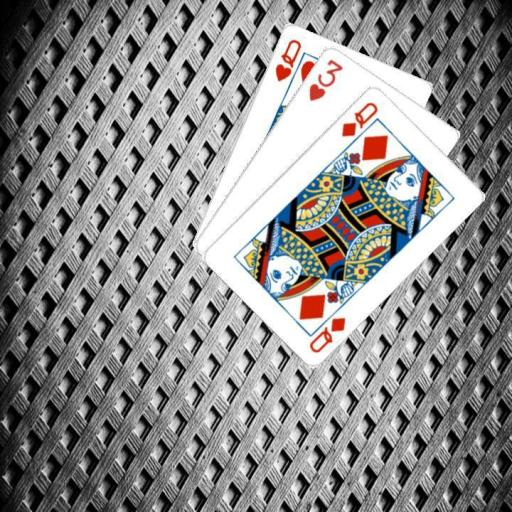card-corner: (305, 56, 345, 102), (338, 98, 380, 138), (306, 314, 347, 354), (272, 36, 303, 82)
